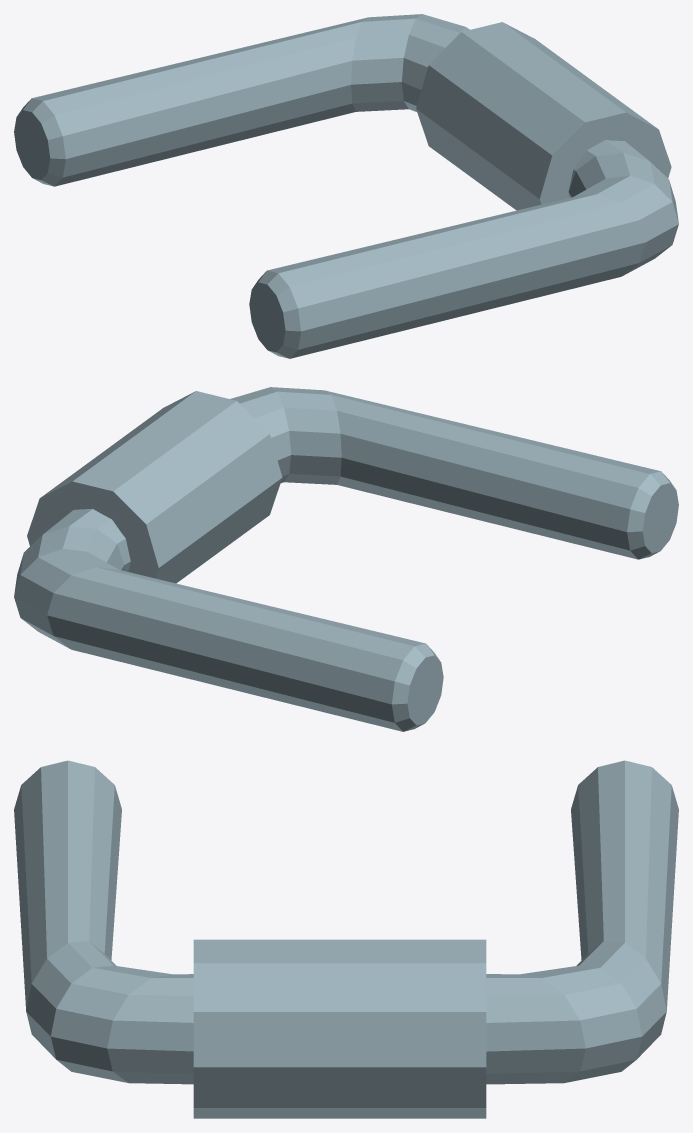
The model's file is DoorHandle02.fbx.
3 views of the same model, one above another, from view 1: azimuth 30°, elevation 25°; view 2: azimuth 150°, elevation 25°; view 3: azimuth 270°, elevation 25° (orthographic). The views are drawn at different scales.
Parts seen in each view (by area): view 1: DoorHandle02; view 2: DoorHandle02; view 3: DoorHandle02.
Part boxes in pixels (x1,y1,x2,y2): DoorHandle02: (14, 14, 678, 358); DoorHandle02: (14, 387, 678, 731); DoorHandle02: (14, 760, 678, 1118).
Size of the model in its own units: 12.18 by 3.34 by 12.96.
